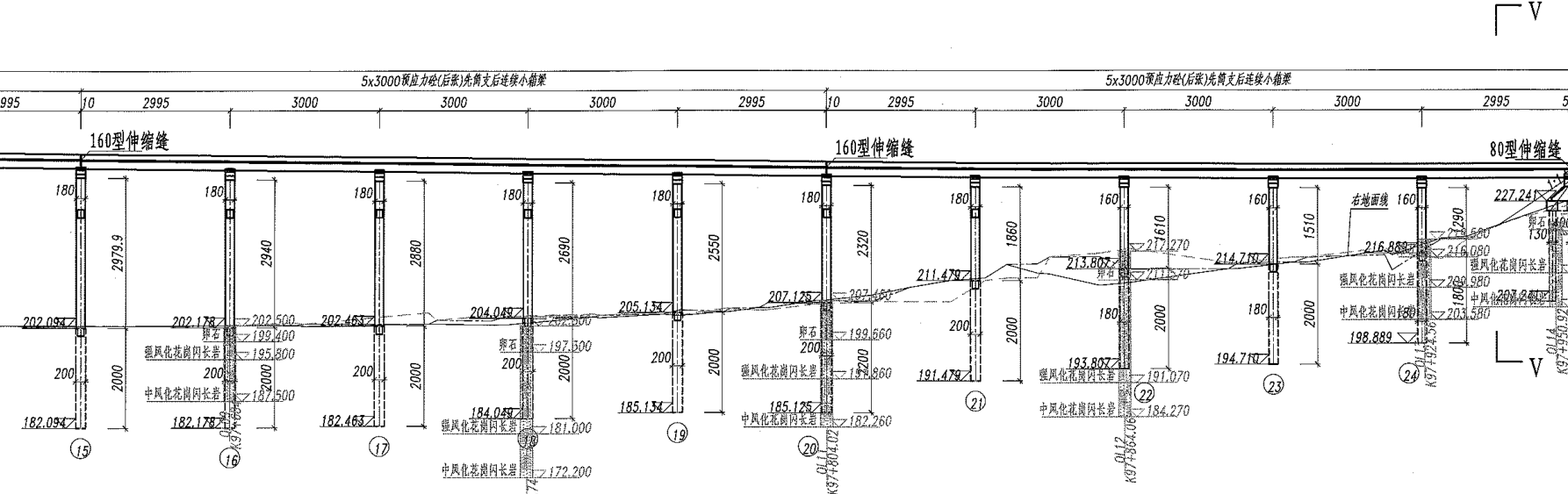A: (4, 48, 1568, 78)
B: (820, 65, 1568, 95), (74, 68, 831, 97)
C: (1059, 169, 1193, 409), (162, 166, 250, 474), (16, 163, 103, 463), (312, 166, 400, 462), (460, 168, 549, 451), (760, 168, 846, 460), (608, 168, 697, 447), (908, 168, 996, 417), (1206, 168, 1295, 400), (1365, 170, 1437, 389)
